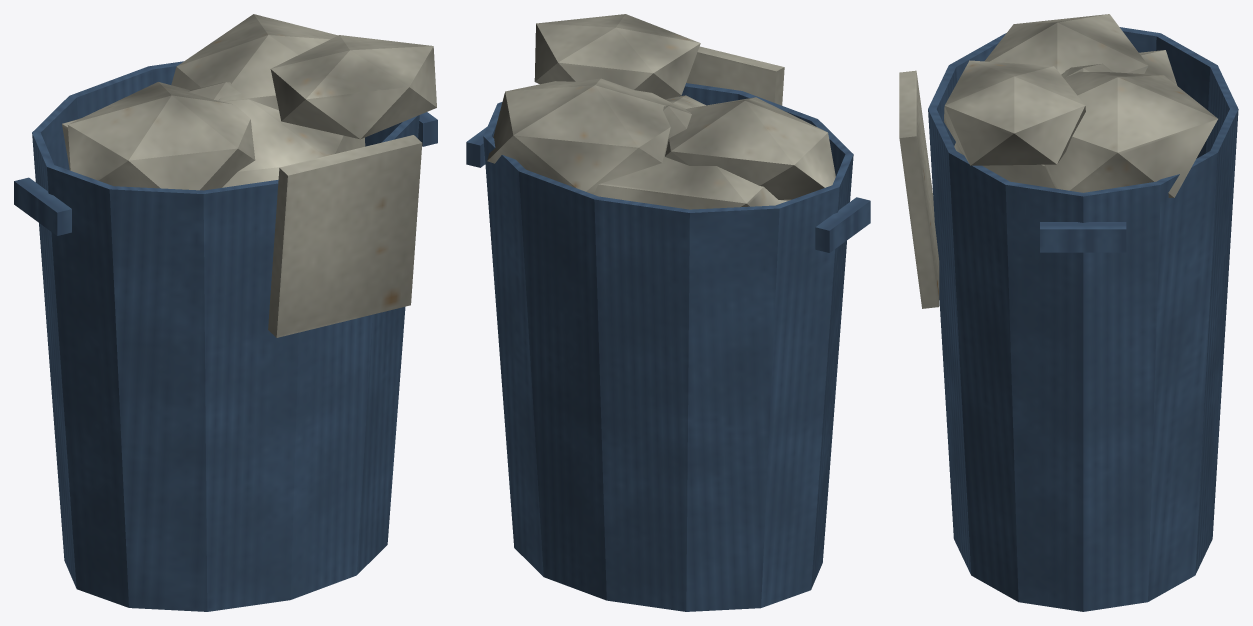
File: Laundry_Basket.fbx
The picture shows the model from 3 angles, left to right: view 1: azimuth 30°, elevation 25°; view 2: azimuth 150°, elevation 25°; view 3: azimuth 270°, elevation 25°; orthographic projection. The views are drawn at different scales.
Parts seen in each view (by area): view 1: корзина для белья; view 2: корзина для белья; view 3: корзина для белья.
Boxes of the visible parts, x1,y1,x2,y2 form: корзина для белья: (14, 14, 437, 611); корзина для белья: (466, 14, 870, 611); корзина для белья: (899, 14, 1238, 611).
Size of the model in its own units: 0.51 by 0.6476 by 0.3931.
1 material, 1 textured.
